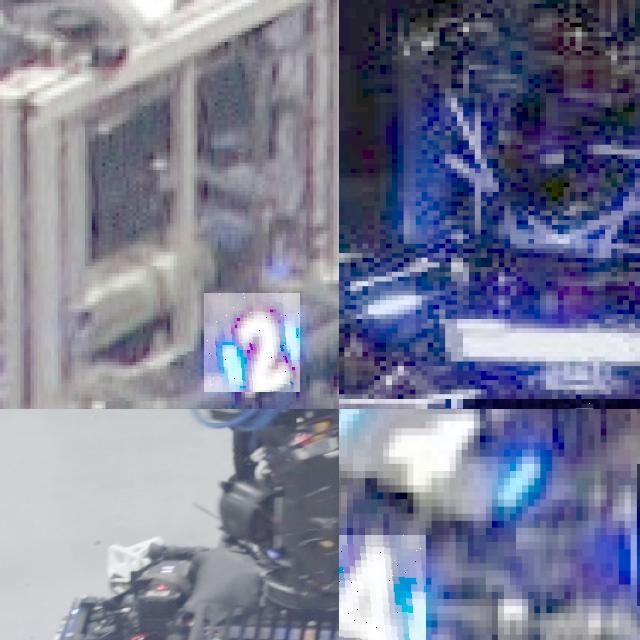B2: (204, 293, 300, 392)
B4: (339, 535, 425, 640)
